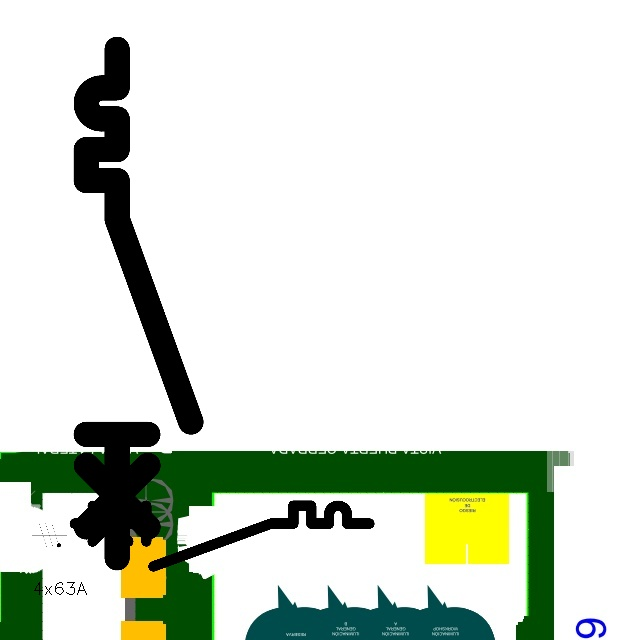interruptor_termomagnetico: (73, 36, 204, 570), (67, 498, 377, 574)
